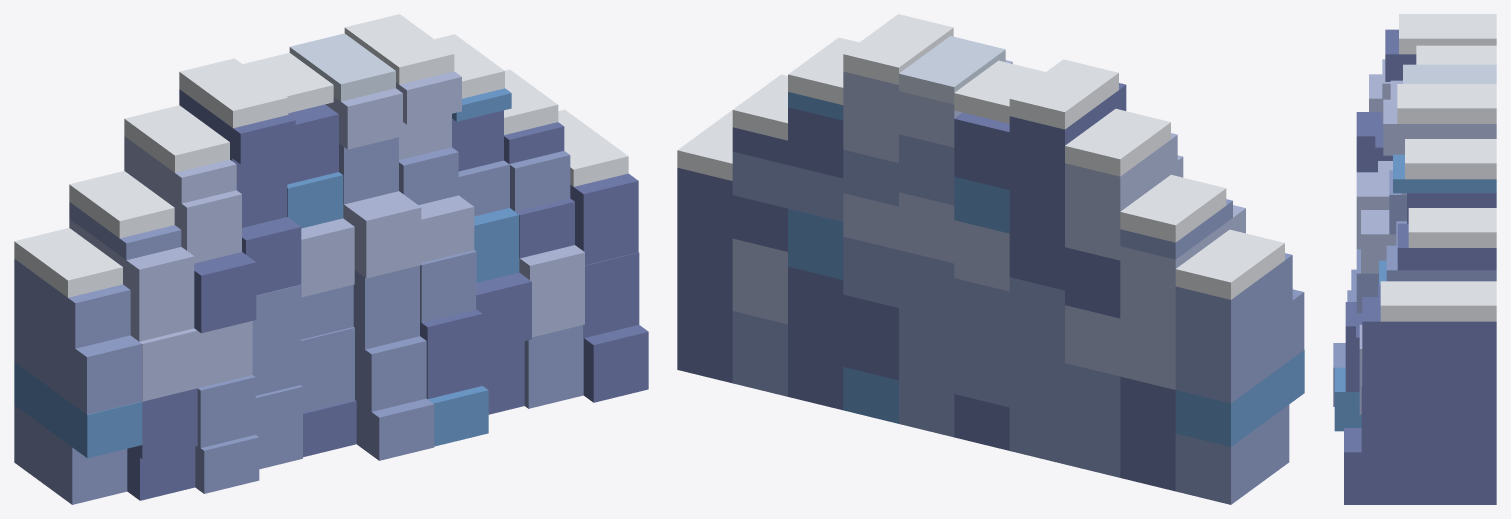
The model's file is IceCliffWall.glb.
3 renders of one model, left to right at view 1: azimuth 30°, elevation 25°; view 2: azimuth 150°, elevation 25°; view 3: azimuth 270°, elevation 25°, orthographic. The views are drawn at different scales.
Visible parts, largest first — view 1: IceCliffWall; view 2: IceCliffWall; view 3: IceCliffWall.
Boxes of the visible parts, box(x1,y1,x2,y2) form: IceCliffWall: box(14, 14, 648, 504); IceCliffWall: box(677, 14, 1304, 504); IceCliffWall: box(1333, 14, 1496, 504).
Size of the model in its own units: 20 by 12.3 by 5.64.
1 material, 1 textured.
